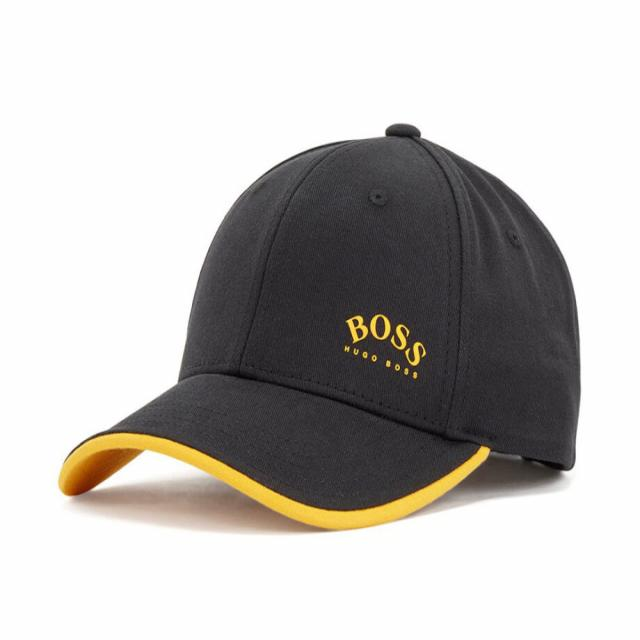suspicious-objects: (58, 125, 581, 529)
